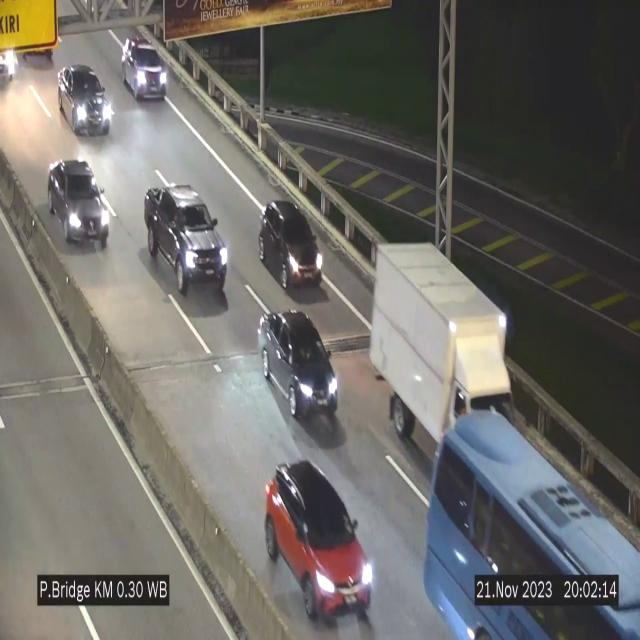Car: (265, 460, 375, 622), (250, 303, 344, 436), (144, 184, 228, 298), (258, 197, 324, 295), (47, 154, 109, 247), (58, 66, 112, 134), (122, 40, 167, 100)
Truck: (370, 236, 518, 484)
